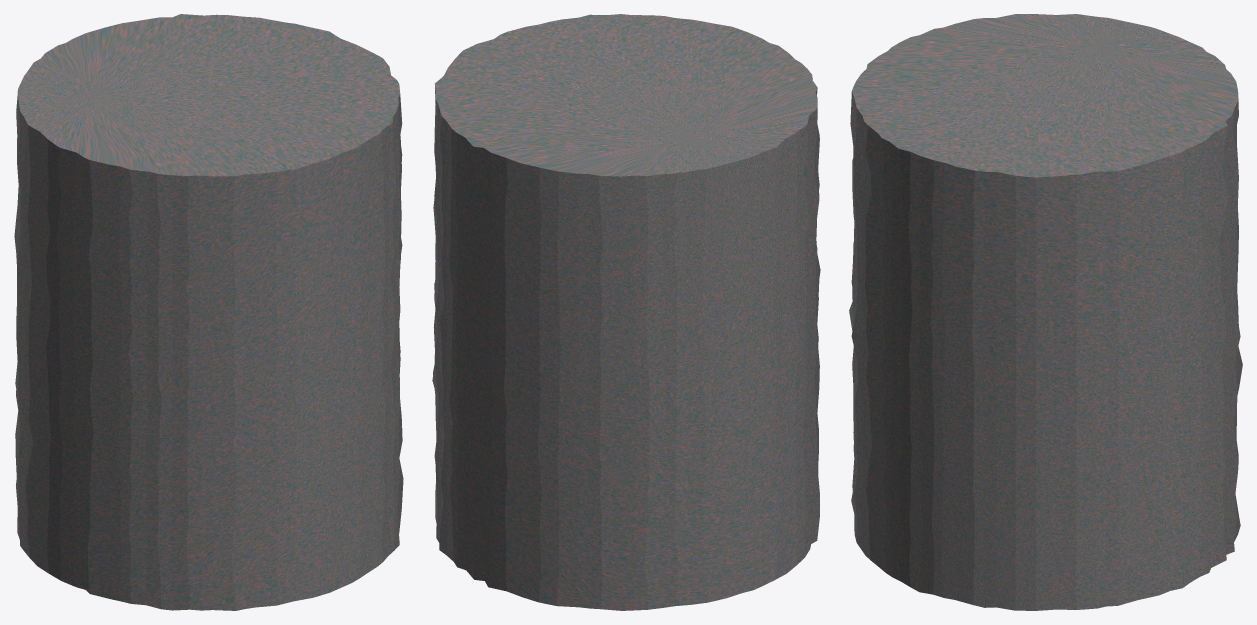
The model's file is barrel_70.dae.
3 renders of one model, left to right at view 1: azimuth 30°, elevation 25°; view 2: azimuth 150°, elevation 25°; view 3: azimuth 270°, elevation 25°, orthographic.
Visible parts, largest first — view 1: Cylinder; view 2: Cylinder; view 3: Cylinder.
Part boxes in pixels (x1,y1,x2,y2): Cylinder: [14, 14, 403, 610]; Cylinder: [432, 14, 820, 610]; Cylinder: [849, 14, 1242, 610].
Bounding box in the file's own units: 0.8128 × 0.8207 × 1.
Materials: 1 (1 with a texture image).
